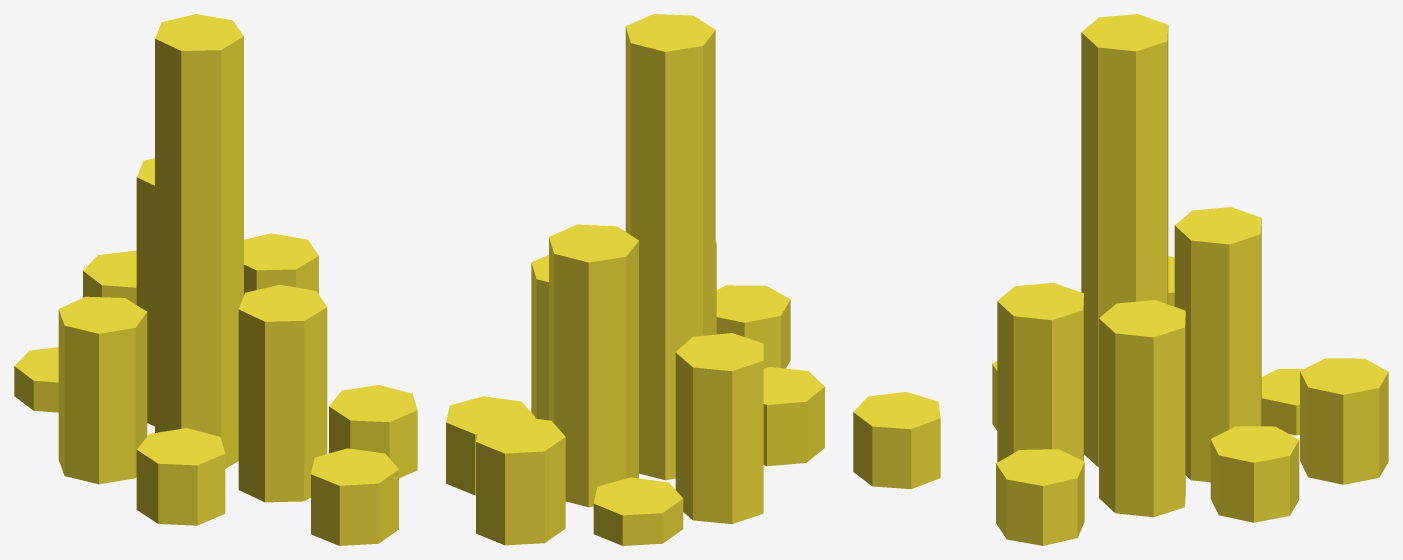
Rendered from gold_stack.glb.
3 renders of one model, left to right at view 1: azimuth 30°, elevation 25°; view 2: azimuth 150°, elevation 25°; view 3: azimuth 270°, elevation 25°, orthographic. The views are drawn at different scales.
Parts seen in each view (by area): view 1: group1324557035; view 2: group1324557035; view 3: group1324557035.
Part boxes in pixels (bbox=[...]): group1324557035: bbox=[14, 14, 417, 545]; group1324557035: bbox=[446, 14, 824, 545]; group1324557035: bbox=[853, 14, 1388, 545].
Size of the model in its own units: 0.7213 by 1.04 by 1.18.
